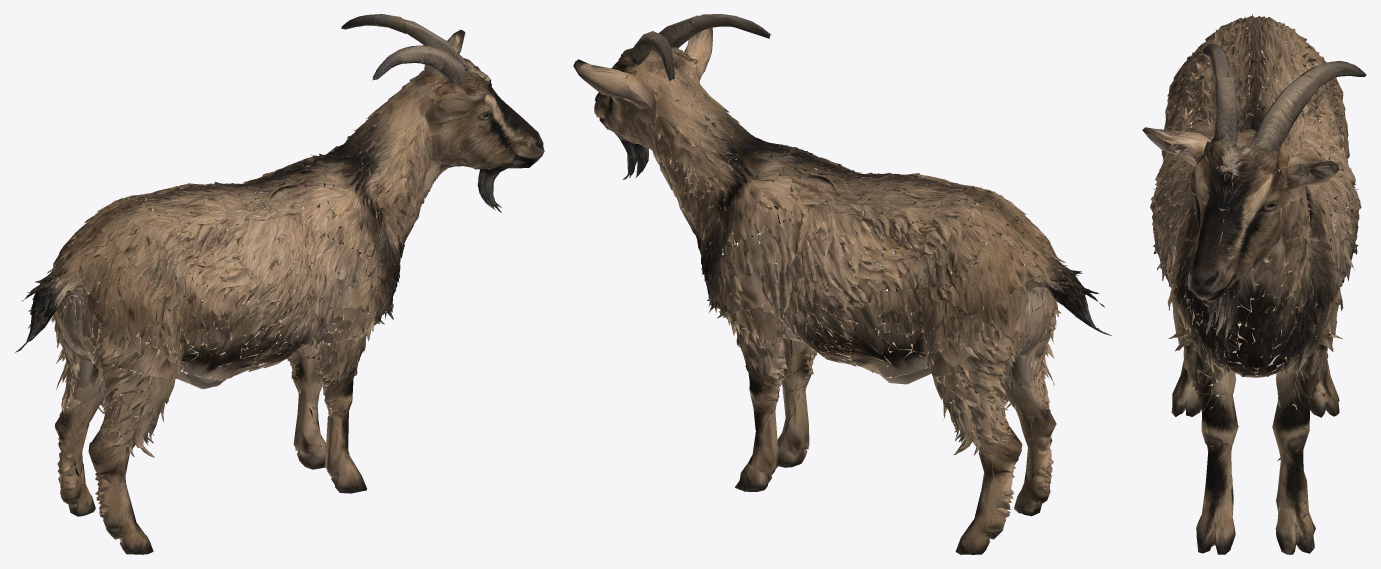
Rendered from goat.glb.
3 views of the same model, side by side, from view 1: azimuth 30°, elevation 25°; view 2: azimuth 150°, elevation 25°; view 3: azimuth 270°, elevation 25° (orthographic). The views are drawn at different scales.
Parts seen in each view (by area): view 1: Mesh_0; view 2: Mesh_0; view 3: Mesh_0.
Part boxes in pixels (bbox=[...]): Mesh_0: bbox=[15, 14, 544, 554]; Mesh_0: bbox=[573, 14, 1111, 554]; Mesh_0: bbox=[1142, 14, 1366, 554].
Bounding box in the file's own units: 1.27 × 1 × 0.3844.
Materials: 1 (1 with a texture image).
